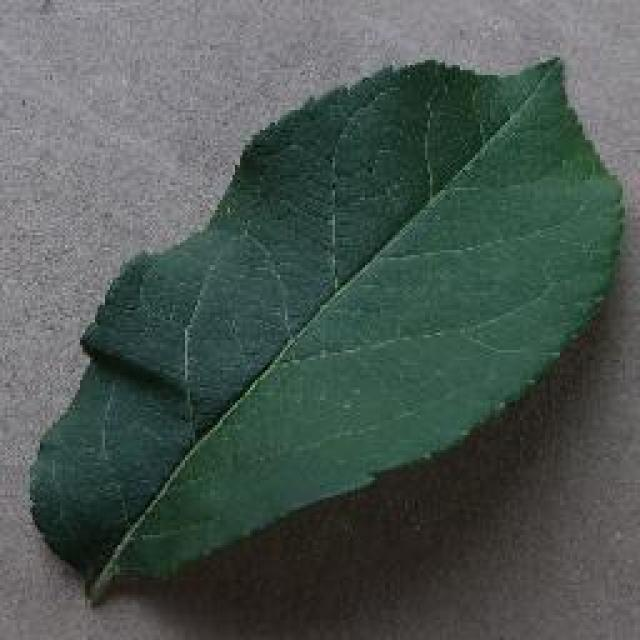apple scab disease: (25, 50, 627, 605)
